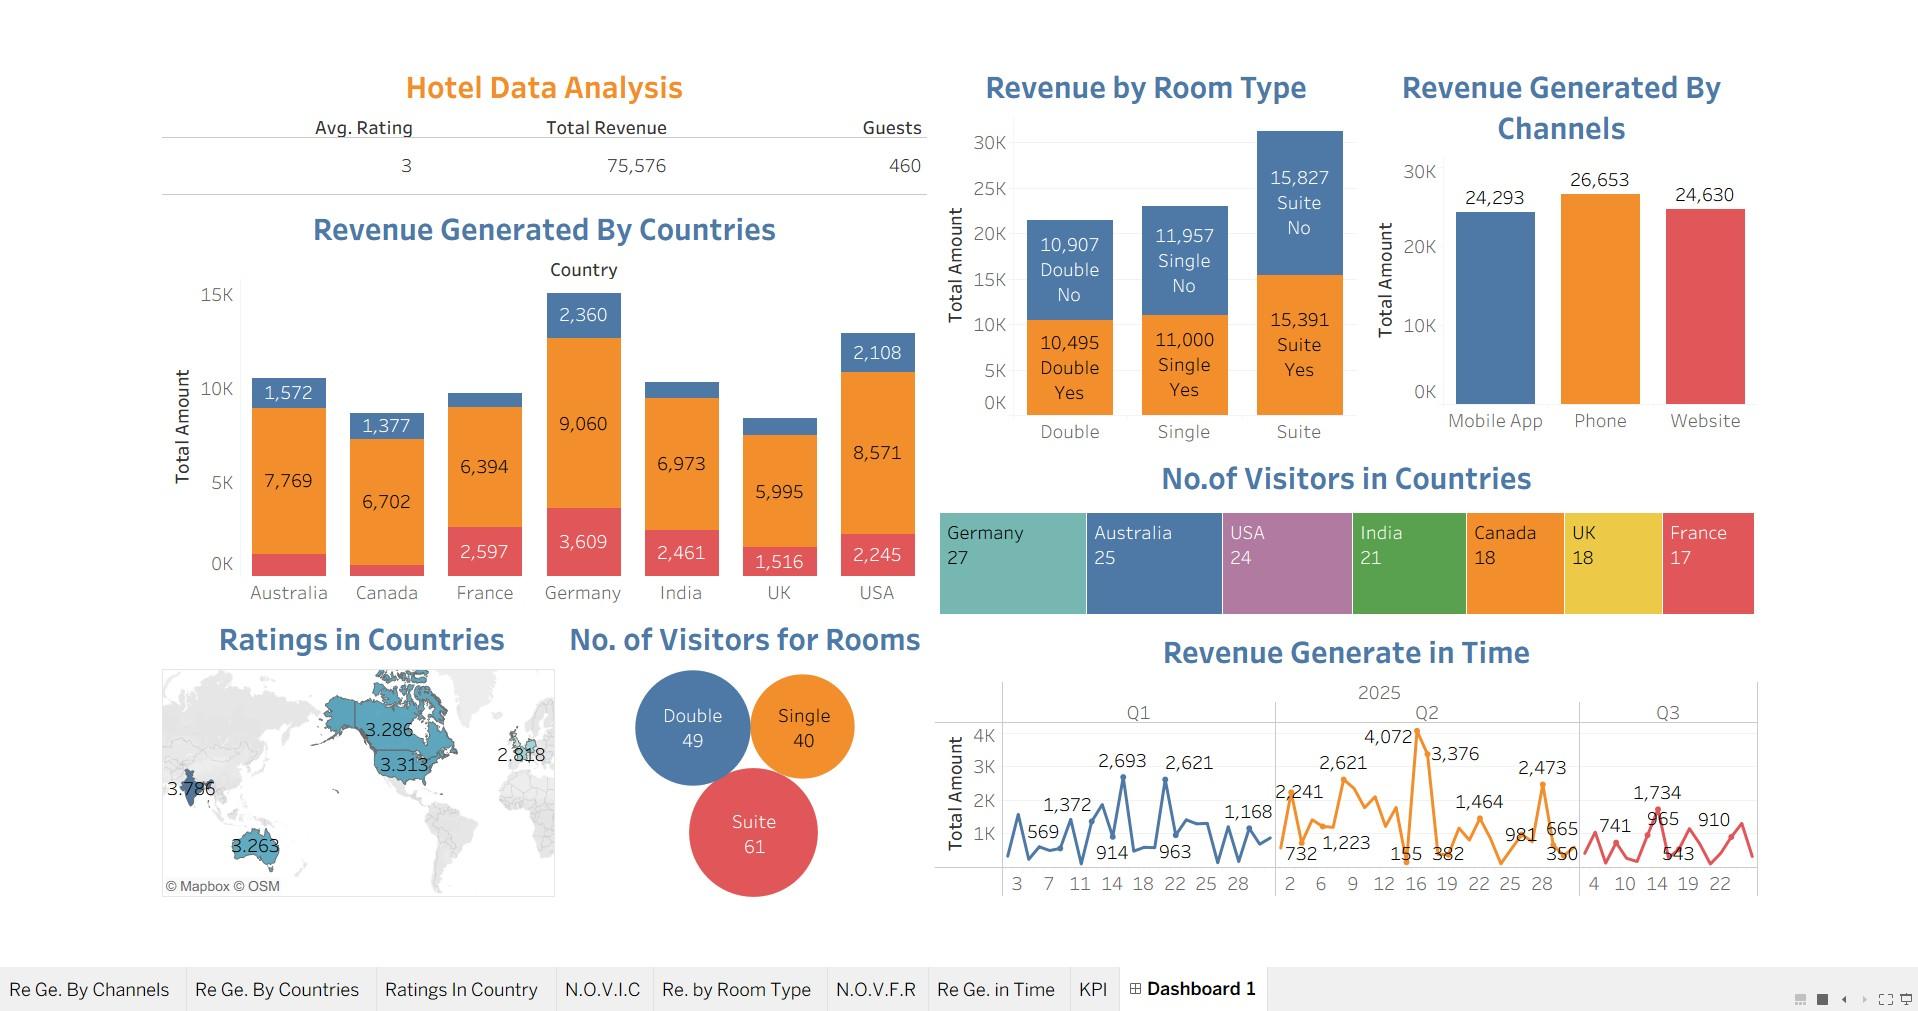

What the dashboard file says about the page in this screenshot:
{"tool":"tableau","page":{"name":"Dashboard 1","canvas":[1000,1000],"units":"permille","ordinal":0},"visuals":[{"type":"worksheet","title":"KPI","mark":"Automatic","box":[4.9,11,495.1,182.2]},{"type":"worksheet","title":"Re. by Room Type","mark":"Automatic","rows":["TotalAmount"],"cols":["RoomType"],"box":[500,11,247.5,453.4]},{"type":"worksheet","title":"Re Ge. By Channels","mark":"Automatic","rows":["TotalAmount"],"cols":["BookingChannel"],"box":[747.5,11,247.6,453.4]},{"type":"worksheet","title":"Re Ge. By Countries","mark":"Automatic","rows":["TotalAmount"],"cols":["Country"],"box":[4.9,193.2,495.1,441.1]},{"type":"worksheet","title":"N.O.V.I.C","mark":"Automatic","box":[500,464.4,495.1,201.4]},{"type":"worksheet","title":"Ratings In Country","mark":"Automatic","box":[4.9,634.2,247.5,354.8]},{"type":"worksheet","title":"N.O.V.F.R","mark":"Circle","box":[252.5,634.2,247.5,354.8]},{"type":"worksheet","title":"Re Ge. in Time","mark":"Automatic","rows":["TotalAmount"],"cols":["BookingDate","BookingDate","BookingDate"],"box":[500,665.7,495.1,323.3]}]}

Visuals, with their boxes on the dashboard's canvas, which has no fixed pixel size, in thousandths of its width and height (x1, y1, x2, y2). These are canvas units, not pixel positions in the 1918x1011 screenshot, which may show the page scaled, cropped or inside an application window:
"KPI" worksheet: BBox(5, 11, 500, 193)
"Re. by Room Type" worksheet: BBox(500, 11, 748, 464)
"Re Ge. By Channels" worksheet: BBox(748, 11, 995, 464)
"Re Ge. By Countries" worksheet: BBox(5, 193, 500, 634)
"N.O.V.I.C" worksheet: BBox(500, 464, 995, 666)
"Ratings In Country" worksheet: BBox(5, 634, 252, 989)
"N.O.V.F.R" worksheet (Circle marks): BBox(252, 634, 500, 989)
"Re Ge. in Time" worksheet: BBox(500, 666, 995, 989)
